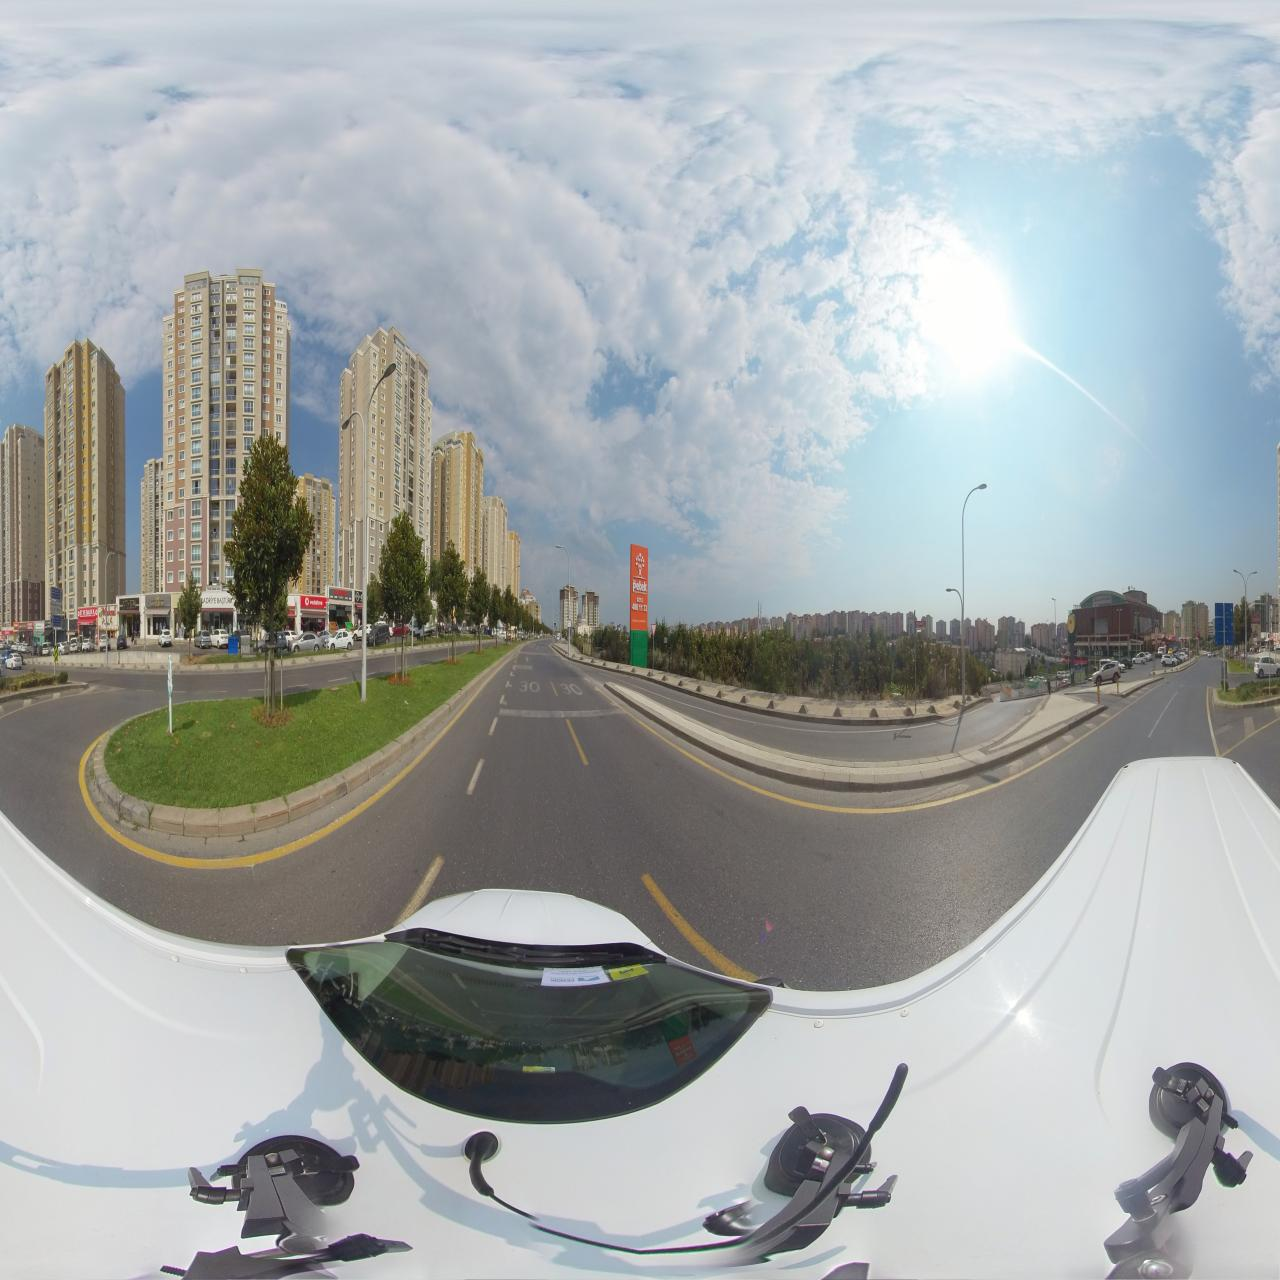SignStore: (202, 594, 232, 606), (100, 606, 117, 618), (305, 597, 324, 607), (150, 595, 166, 607), (80, 608, 97, 618), (123, 599, 137, 610), (334, 588, 348, 597), (27, 622, 33, 629), (19, 624, 27, 628), (36, 624, 43, 628), (14, 622, 18, 628), (5, 631, 9, 634)
